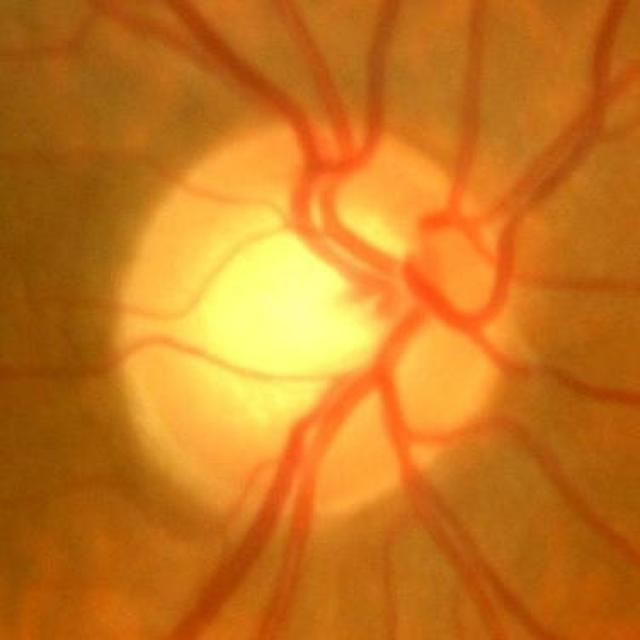OC: (191, 201, 419, 405)
OD: (109, 120, 523, 526)
